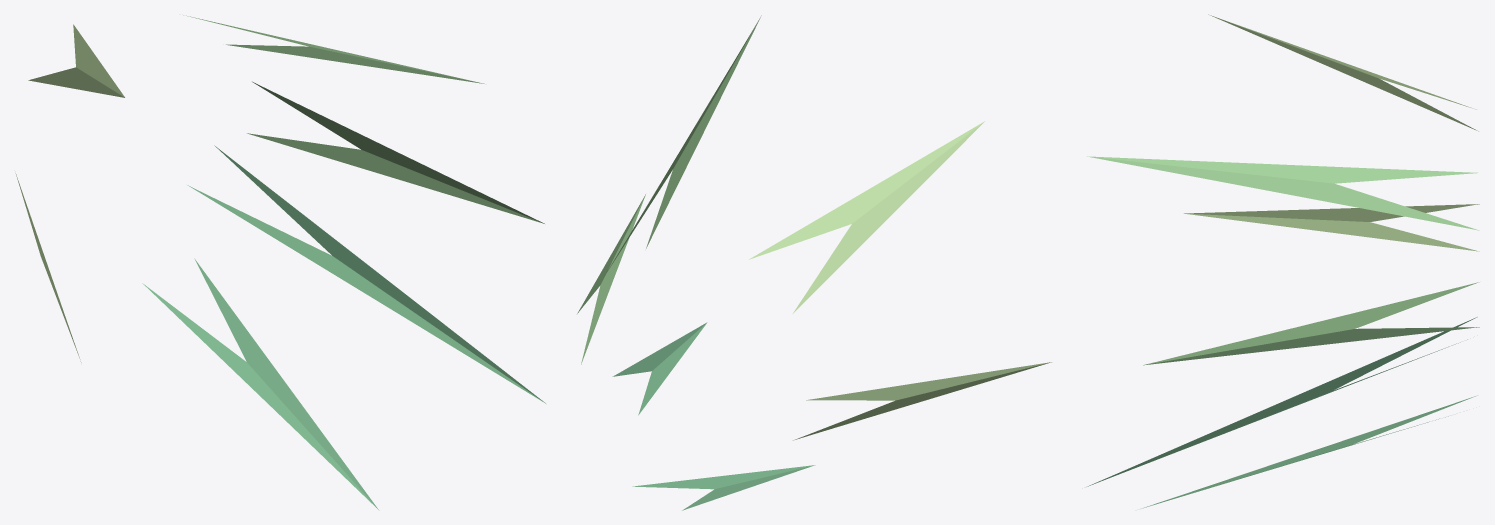
Rendered from grass_short.glb.
3 views of the same model, side by side, from view 1: azimuth 30°, elevation 25°; view 2: azimuth 150°, elevation 25°; view 3: azimuth 270°, elevation 25° (orthographic). The views are drawn at different scales.
Visible parts, largest first — view 1: grass_short_grass_dark, grass_short_grass, grass_short_grass_light; view 2: grass_short_grass_light, grass_short_grass_dark, grass_short_grass; view 3: grass_short_grass, grass_short_grass_light, grass_short_grass_dark.
Part boxes in pixels (x1,y1,x2,y2): grass_short_grass_dark: (142,145,545,510); grass_short_grass: (183,15,544,223); grass_short_grass_light: (15,24,124,362); grass_short_grass_light: (749,121,1051,440); grass_short_grass_dark: (612,322,815,510); grass_short_grass: (577,15,761,364); grass_short_grass: (1087,156,1479,365); grass_short_grass_light: (1184,14,1479,251); grass_short_grass_dark: (1087,317,1477,508).
Bounding box in the file's own units: 0.5321 × 0.5022 × 0.4522.
